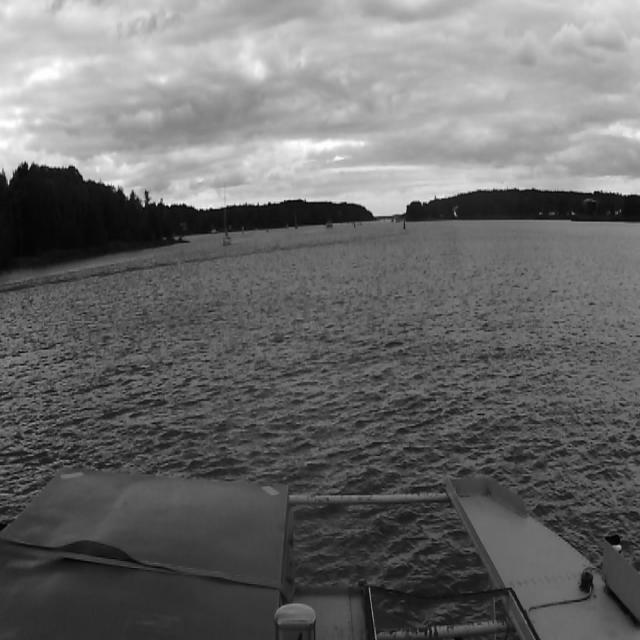buoy: (402, 216, 406, 232), (265, 225, 269, 235), (403, 219, 405, 229), (242, 226, 244, 234)
ship: (222, 182, 231, 246), (295, 210, 298, 229)
